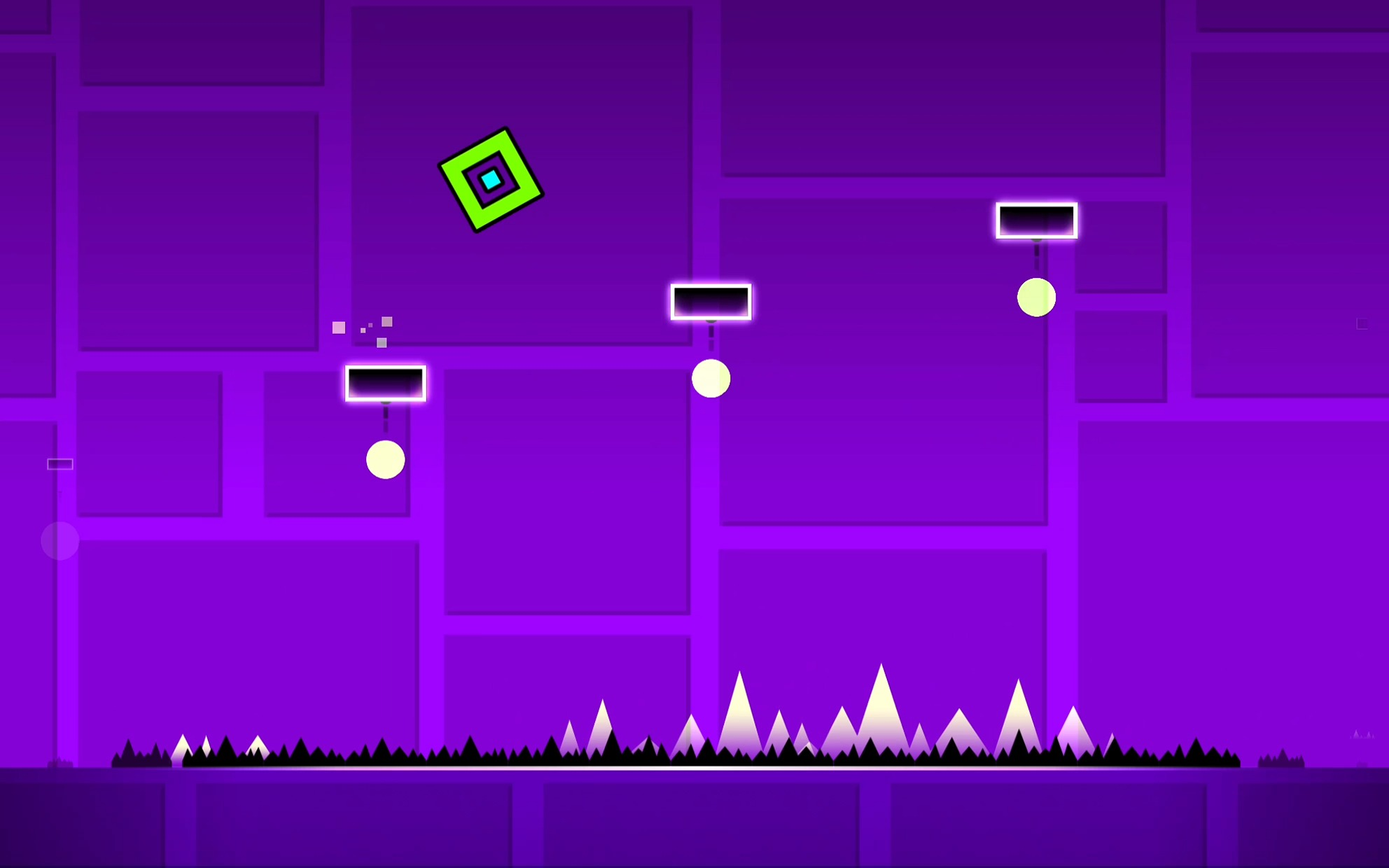Block3: (342, 364, 432, 401), (993, 203, 1080, 238), (678, 280, 749, 320)
Player: (438, 127, 543, 232)
Spike3: (0, 730, 1389, 772)
